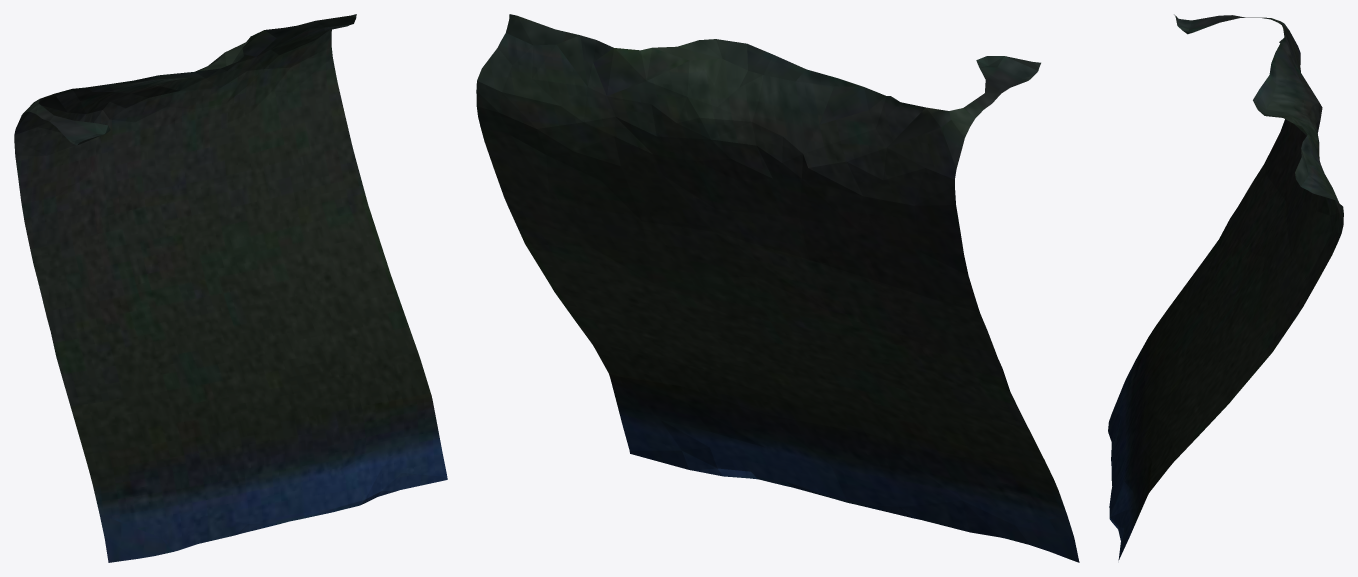
The model's file is tile_5_1_31_tex.obj.
3 views of the same model, side by side, from view 1: azimuth 30°, elevation 25°; view 2: azimuth 150°, elevation 25°; view 3: azimuth 270°, elevation 25° (orthographic). The views are drawn at different scales.
Parts seen in each view (by area): view 1: obj_0; view 2: obj_0; view 3: obj_0.
Boxes of the visible parts, bbox=[...] form: obj_0: bbox=[14, 14, 447, 562]; obj_0: bbox=[476, 14, 1079, 562]; obj_0: bbox=[1108, 14, 1343, 560].
Bounding box in the file's own units: 5.01 × 5.64 × 3.1.
1 material, 1 textured.
